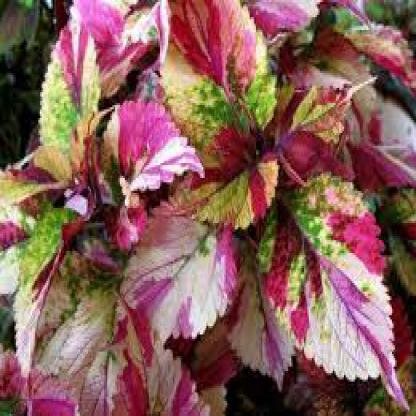Bunga Coleus: (49, 44, 372, 342)
